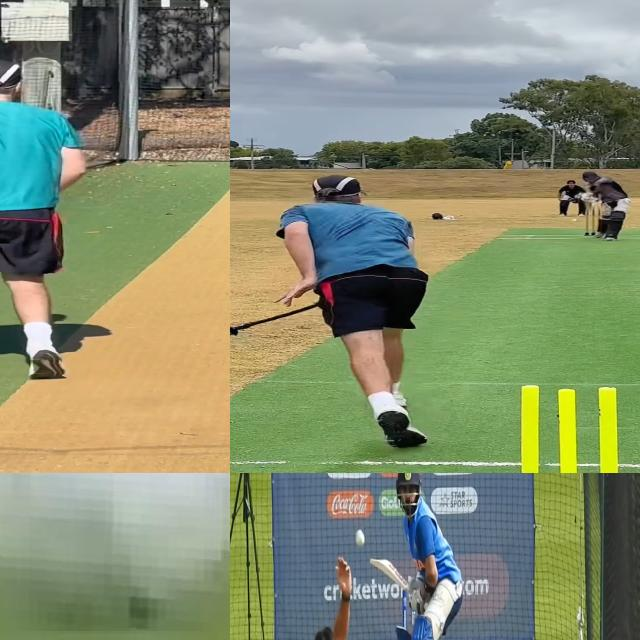Cricket ball: (0, 473, 230, 630), (354, 526, 366, 550), (571, 218, 580, 223)
Stumps: (499, 384, 640, 473)
